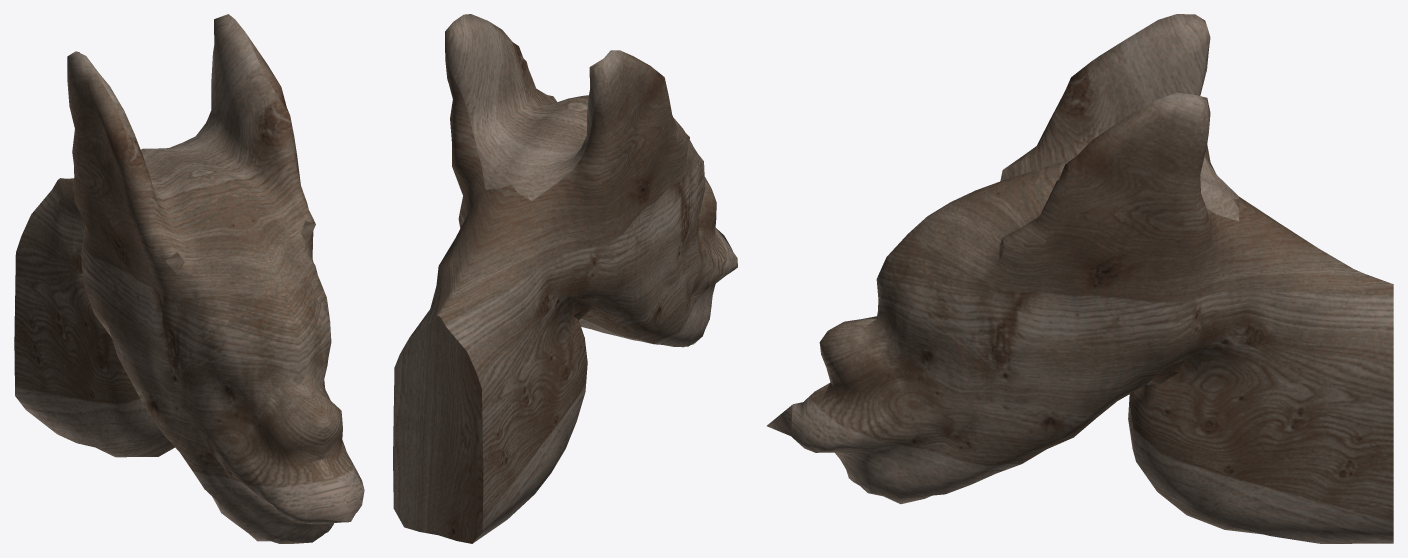
File: SM_Sun_Dae_Head.fbx
3 views of the same model, side by side, from view 1: azimuth 30°, elevation 25°; view 2: azimuth 150°, elevation 25°; view 3: azimuth 270°, elevation 25° (orthographic). The views are drawn at different scales.
Visible parts, largest first — view 1: SM_Sun_Dae_Head; view 2: SM_Sun_Dae_Head; view 3: SM_Sun_Dae_Head.
Part boxes in pixels (x1,y1,x2,y2): SM_Sun_Dae_Head: [14, 14, 364, 543]; SM_Sun_Dae_Head: [393, 14, 737, 543]; SM_Sun_Dae_Head: [767, 14, 1393, 543].
Size of the model in its own units: 28.44 by 68.95 by 82.88.
